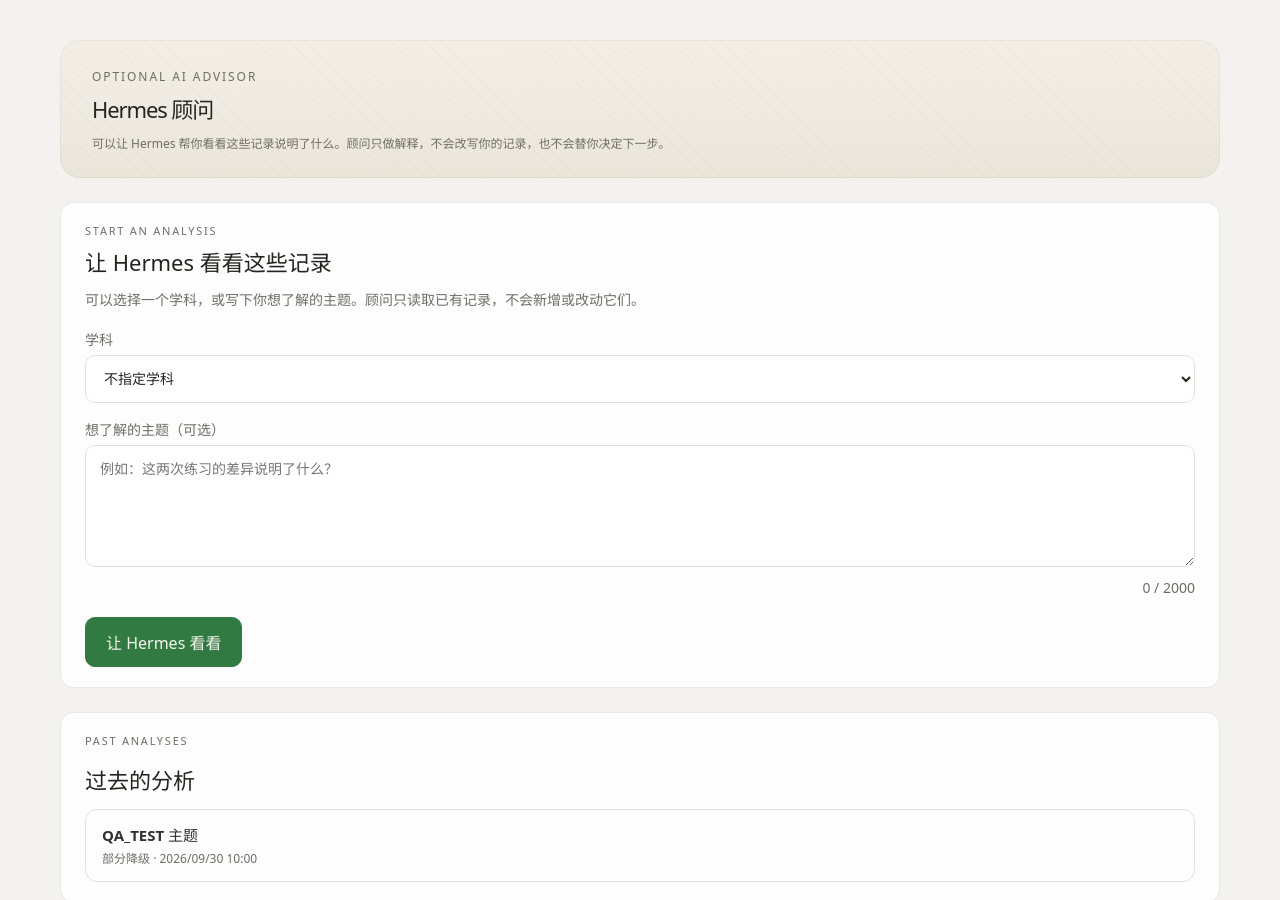
it: optional AI advisor › shows the honest degraded banner and still renders facts and missing information
Click the button with aria-label "打开分析：QA_TEST 主题". click: (150, 835)
box: x1=85 y1=808 x2=1195 y2=882
(page scrolled)
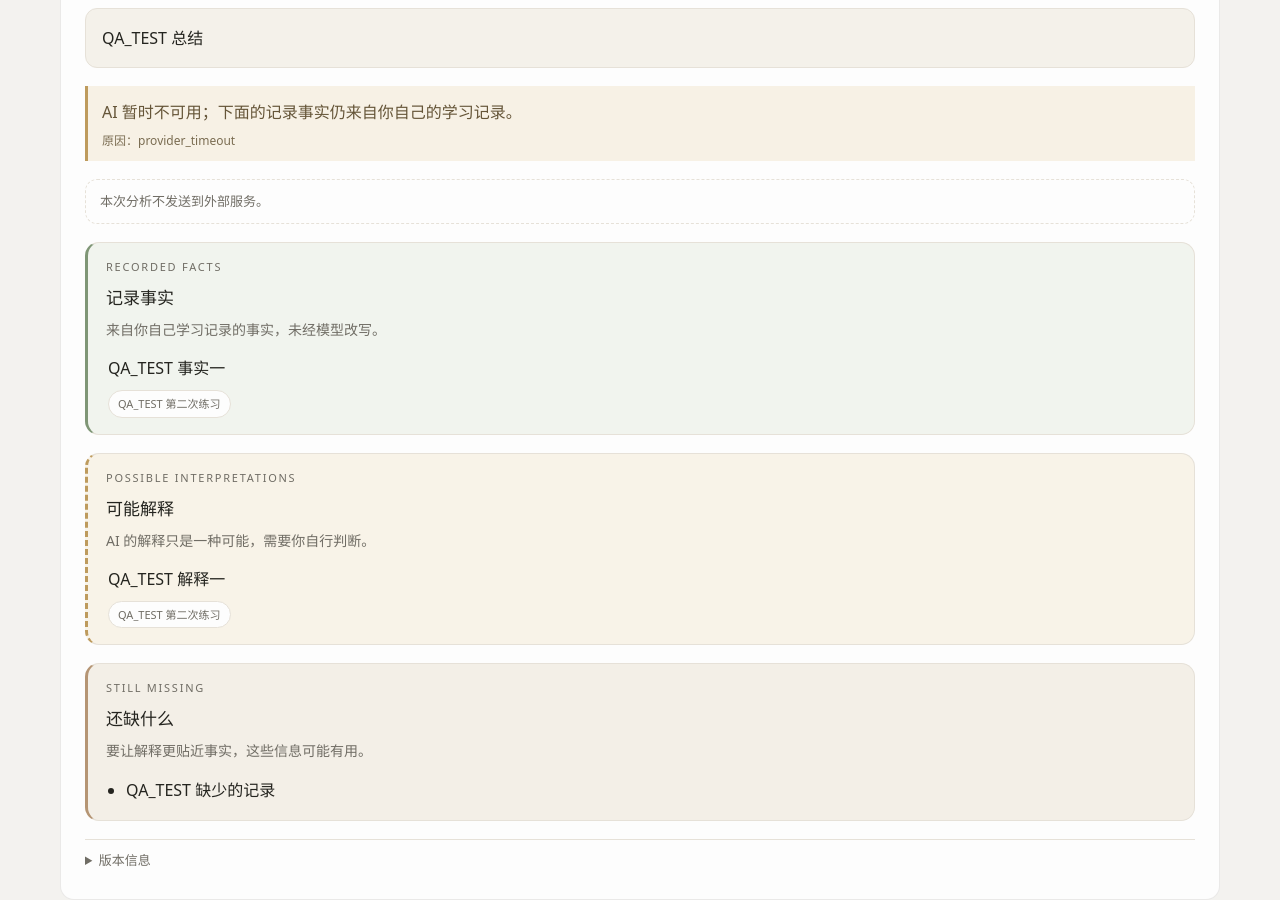
Now the text "AI 暂时不可用；下面的记录事实仍来自你自己的学习记录。" is shown, box x1=102 y1=101 x2=522 y2=123
Now the text "QA_TEST 事实一" is shown, box x1=108 y1=358 x2=225 y2=380
Now the list item "QA_TEST 缺少的记录" is shown, box x1=126 y1=779 x2=275 y2=801
